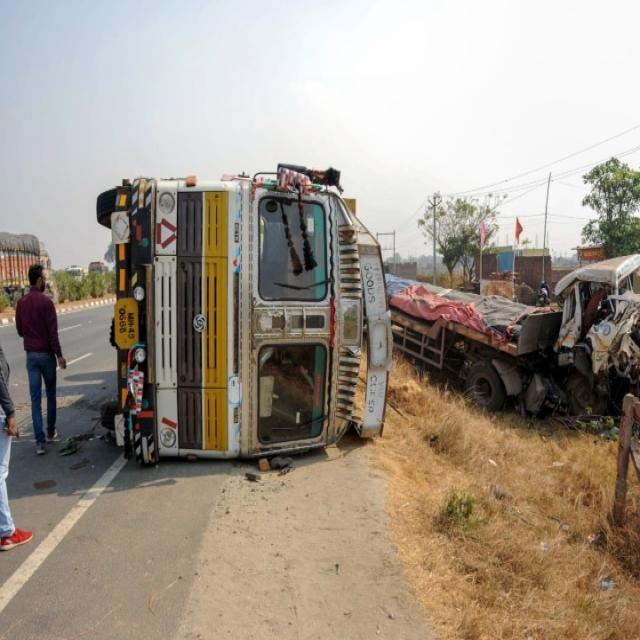accident: (98, 167, 392, 462), (388, 255, 640, 414)
truck: (0, 232, 51, 289)
